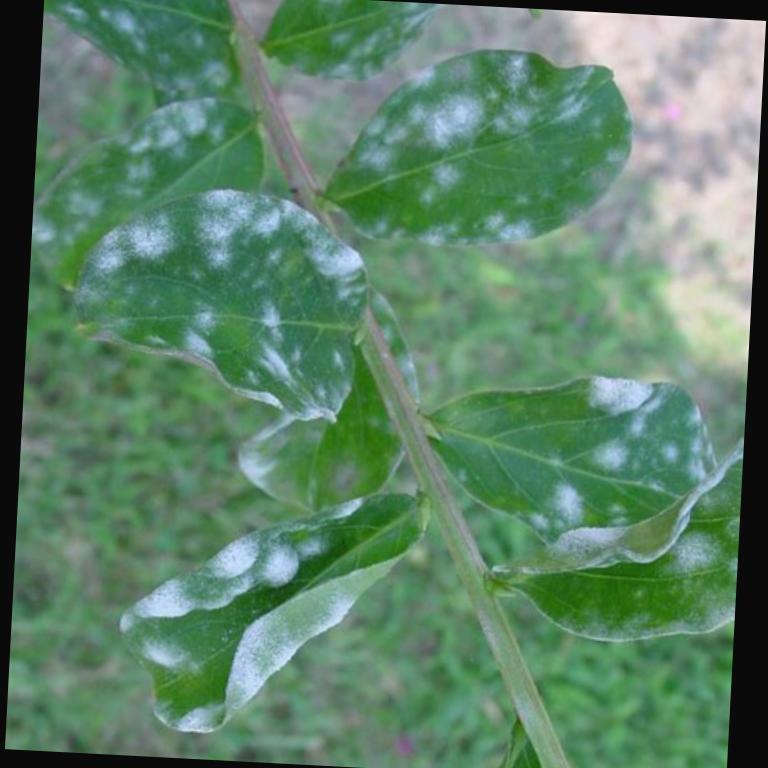powdery-mildew: (122, 176, 343, 290), (560, 372, 684, 498), (141, 538, 301, 634), (376, 67, 512, 157)
